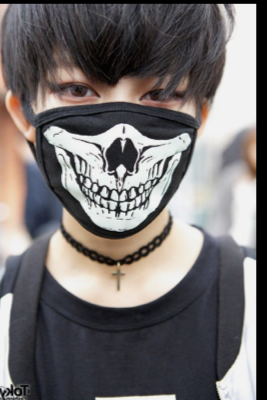with_mask: (33, 50, 200, 241)
